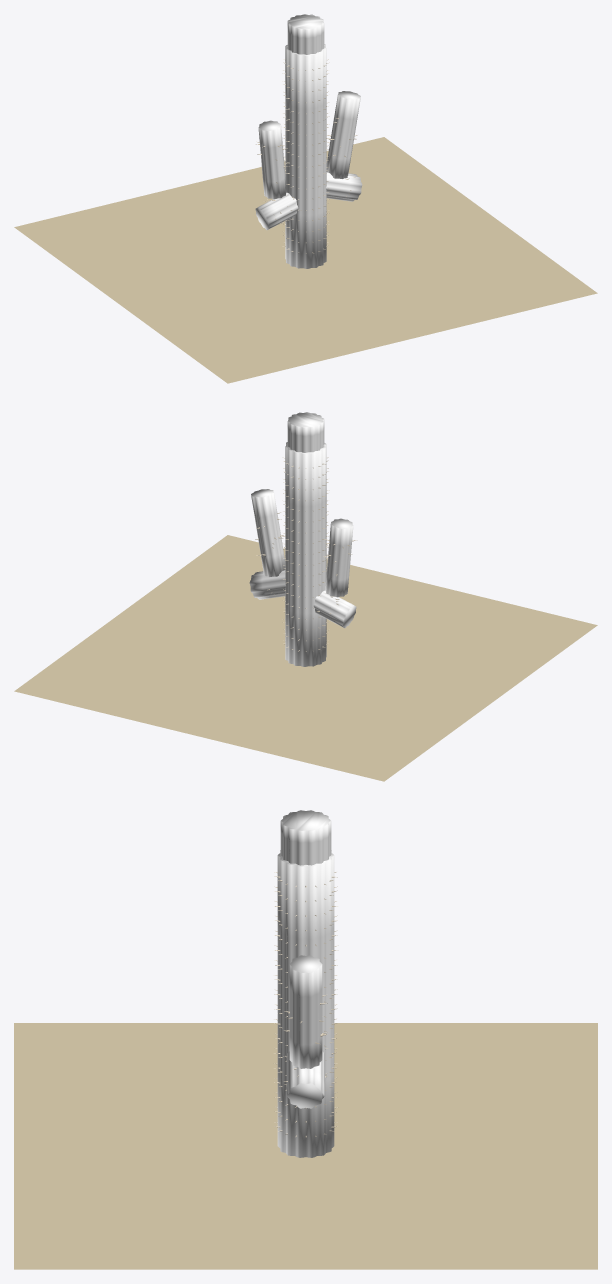
The picture shows the model from 3 angles, top to bottom: view 1: azimuth 30°, elevation 25°; view 2: azimuth 150°, elevation 25°; view 3: azimuth 270°, elevation 25°; orthographic projection. The views are drawn at different scales.
Bounding box in the file's own units: 10 × 6.15 × 10.
